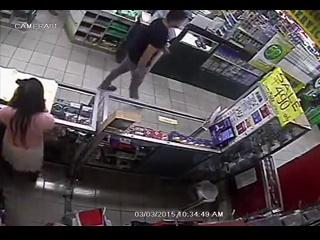Normal: (98, 10, 188, 100), (0, 77, 56, 185)
